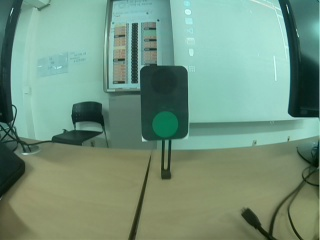green_light: (141, 72, 187, 141)
